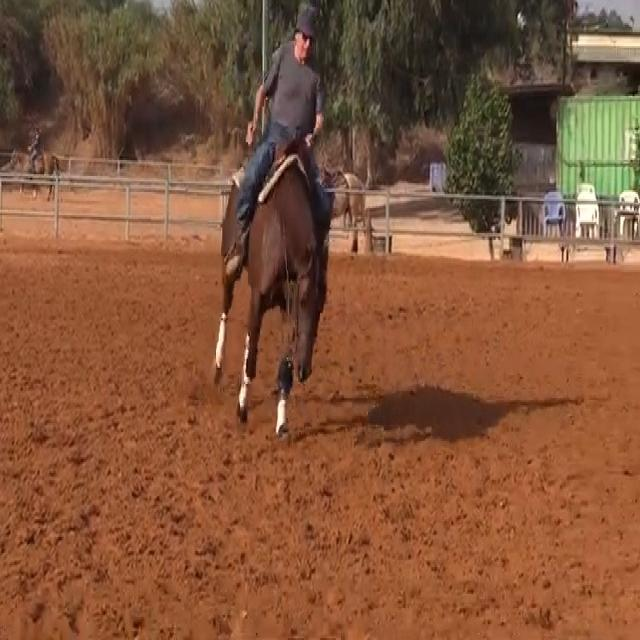horse: (211, 137, 335, 439)
